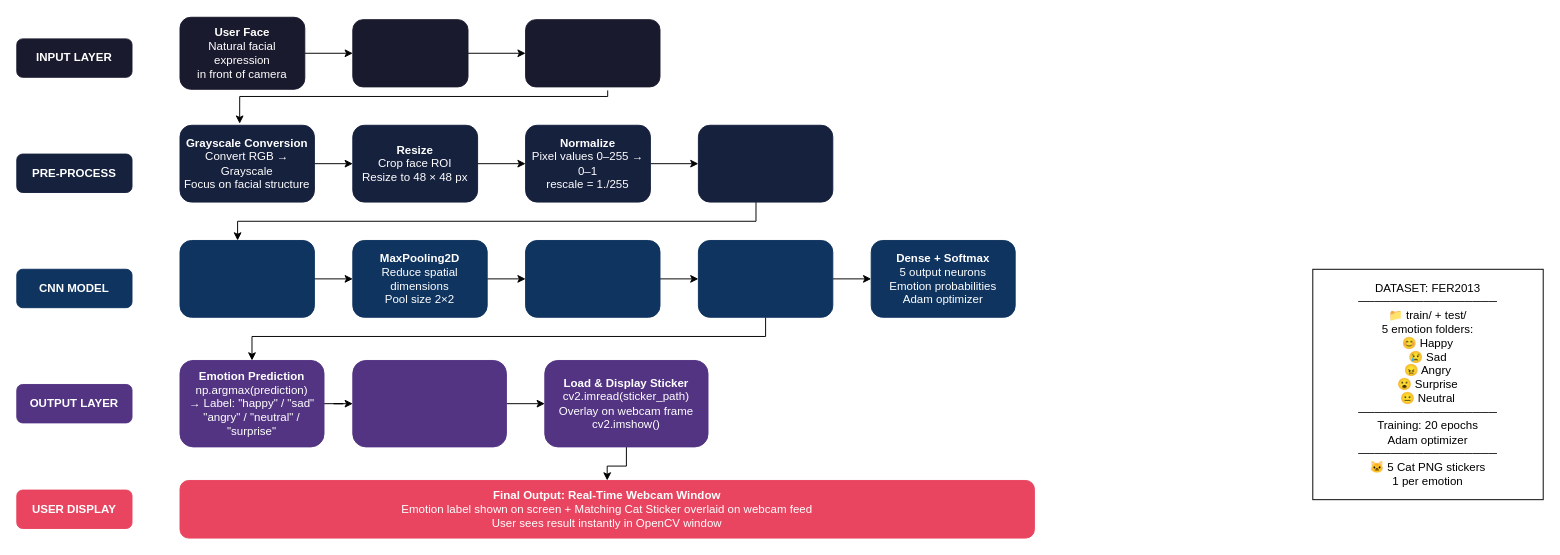
Image size: 1560x555. Some labels were removed from this diagram. Each missing label, with the box of its shape:
Conv2D Detect edges, eye shapes mouth curves & patterns: (179, 240, 314, 317)
Data Augmentation Rotation ±20° Zoom 0.2 Horizontal Flip: (697, 124, 833, 202)
Dropout Prevent overfitting rate = 0.5: (525, 240, 660, 317)
Face Detection (Haar Cascade) haarcascade_frontalface _default.xml: (525, 19, 660, 87)
Flatten 2D features → 1D vector For Dense layer input: (697, 240, 833, 317)
Sticker Mapping Emotion → PNG file path "happy" → stickers/happy_cat.png: (352, 360, 506, 447)
Webcam Capture cv2.VideoCapture(0) Live frame capture: (352, 19, 468, 87)
